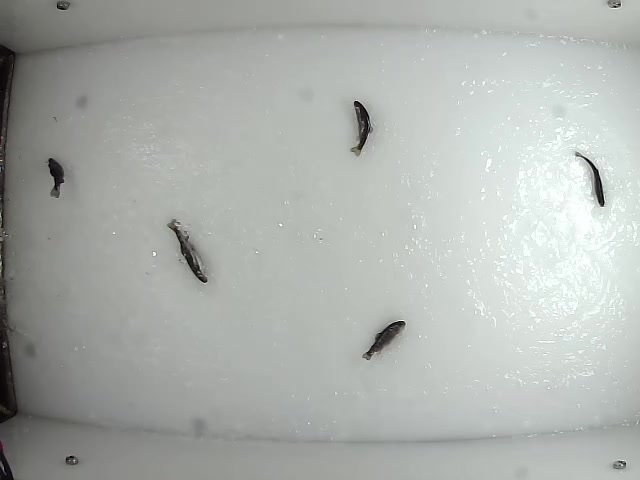fish: (167, 217, 209, 285), (360, 318, 408, 363), (572, 151, 607, 209), (349, 98, 374, 156), (46, 155, 67, 199)
